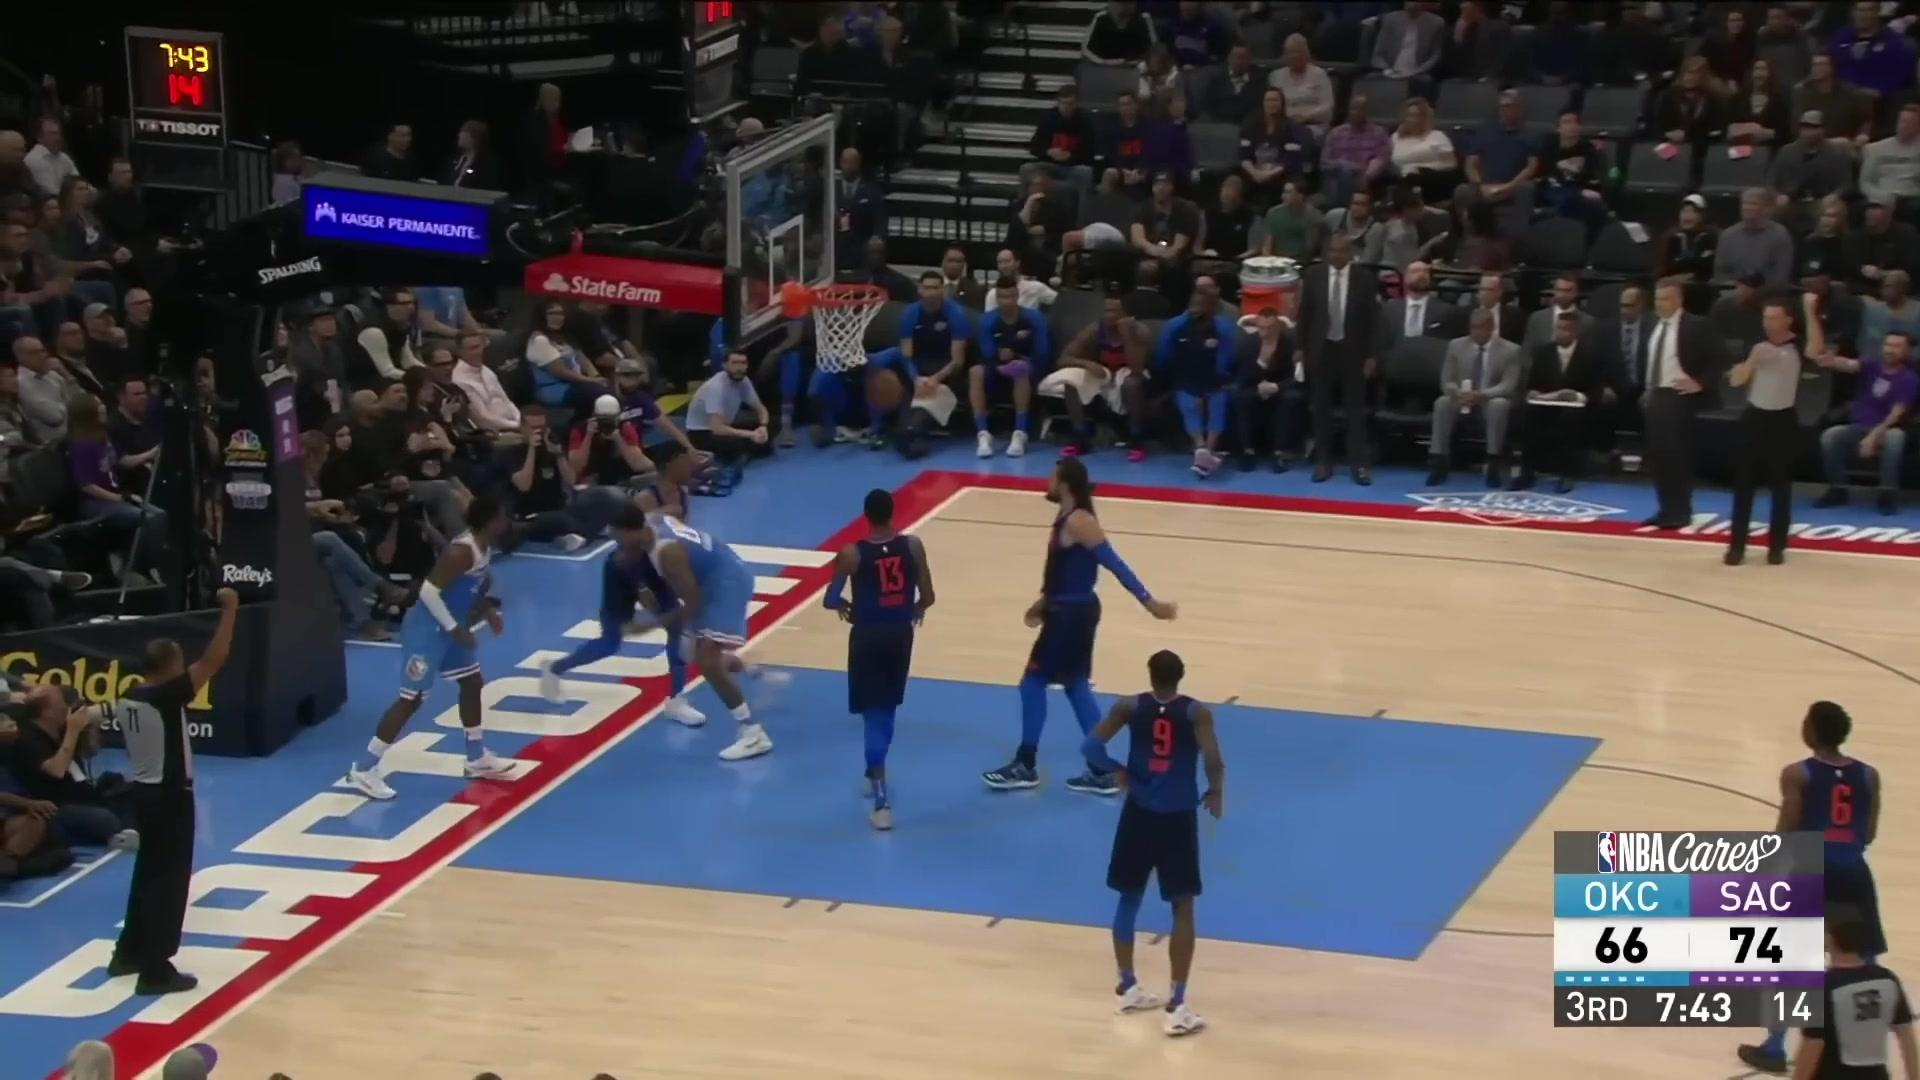foul: (578, 475, 806, 758)
